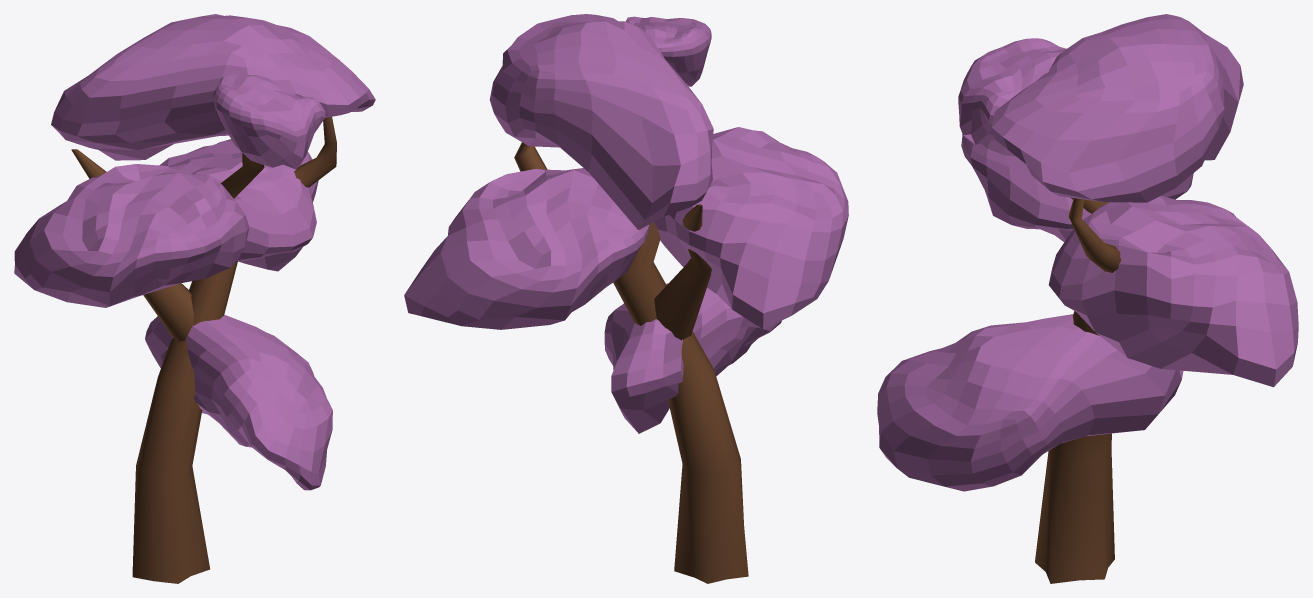
File: tree_green.fbx
3 renders of one model, left to right at view 1: azimuth 30°, elevation 25°; view 2: azimuth 150°, elevation 25°; view 3: azimuth 270°, elevation 25°, orthographic. The views are drawn at different scales.
Parts seen in each view (by area): view 1: tree1; view 2: tree1; view 3: tree1.
Part boxes in pixels (x1=…): tree1: x1=14, y1=14, x2=375, y2=583; tree1: x1=404, y1=14, x2=848, y2=583; tree1: x1=877, y1=14, x2=1298, y2=583.
Bounding box in the file's own units: 2.79 × 4.15 × 2.75.
